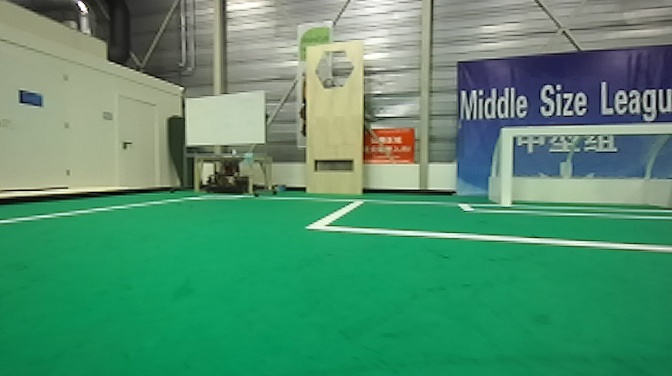goalpost: (497, 123, 518, 210)
